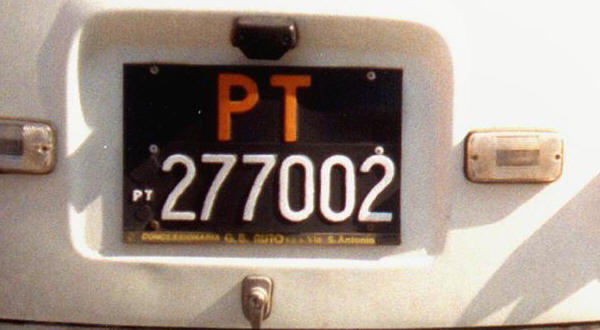license_plate: (122, 62, 404, 246)
